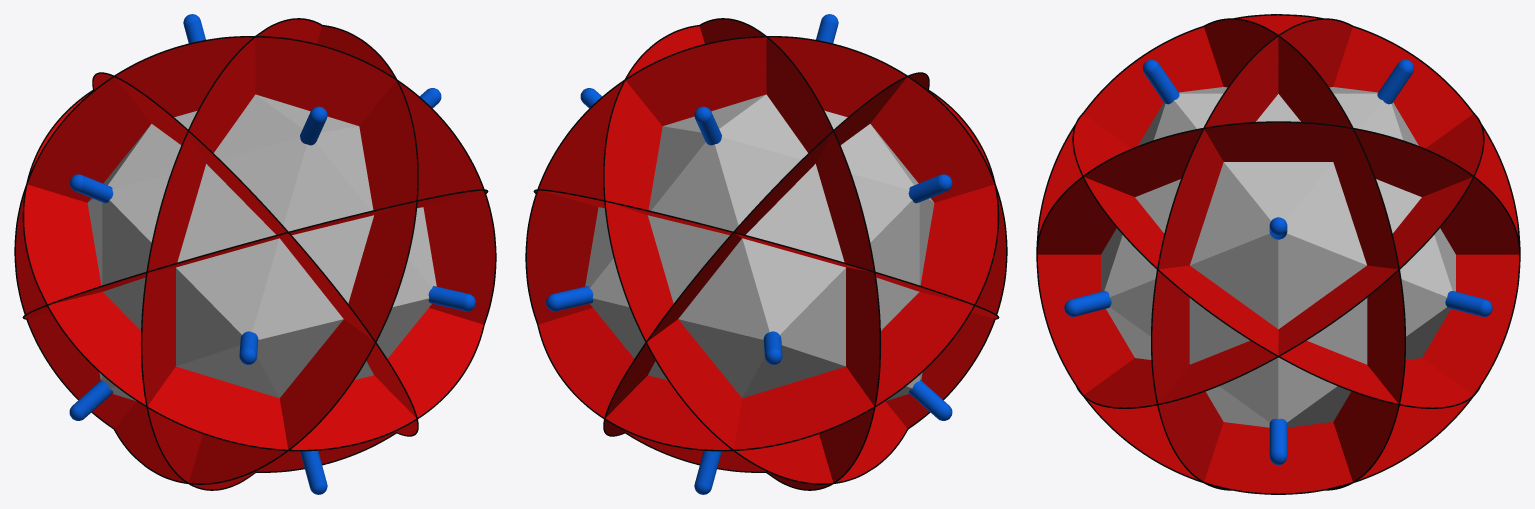
File: six-lines-six-planes.glb
3 views of the same model, side by side, from view 1: azimuth 30°, elevation 25°; view 2: azimuth 150°, elevation 25°; view 3: azimuth 270°, elevation 25° (orthographic).
Parts seen in each view (by area): view 1: surfaces (×2), geometry (×2); view 2: surfaces (×2), geometry (×2); view 3: surfaces (×2), geometry (×2).
Boxes of the visible parts, left/top/right/bottom form: surfaces (×2): left=14, top=18, right=496, bottom=490; geometry (×2): left=69, top=14, right=475, bottom=494; surfaces (×2): left=525, top=18, right=1007, bottom=490; geometry (×2): left=546, top=14, right=952, bottom=494; surfaces (×2): left=1036, top=14, right=1520, bottom=494; geometry (×2): left=1064, top=59, right=1492, bottom=465.
Size of the model in its own units: 163 by 163 by 163.
